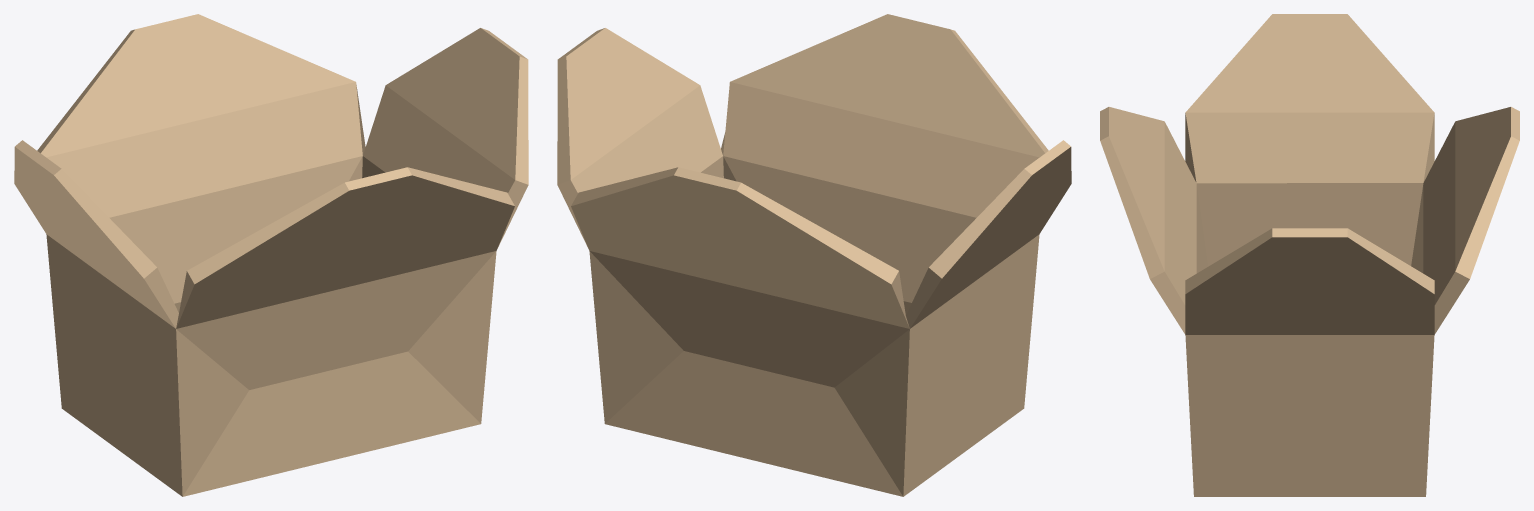
Rendered from container-take-empty.glb.
3 renders of one model, left to right at view 1: azimuth 30°, elevation 25°; view 2: azimuth 150°, elevation 25°; view 3: azimuth 270°, elevation 25°, orthographic. The views are drawn at different scales.
Visible parts, largest first — view 1: container-take-empty; view 2: container-take-empty; view 3: container-take-empty.
Boxes of the visible parts, x1,y1,x2,y2 form: container-take-empty: [14, 14, 528, 496]; container-take-empty: [557, 14, 1071, 496]; container-take-empty: [1100, 14, 1519, 496].
Bounding box in the file's own units: 0.2775 × 0.178 × 0.2214.
Materials: 1 (1 with a texture image).
